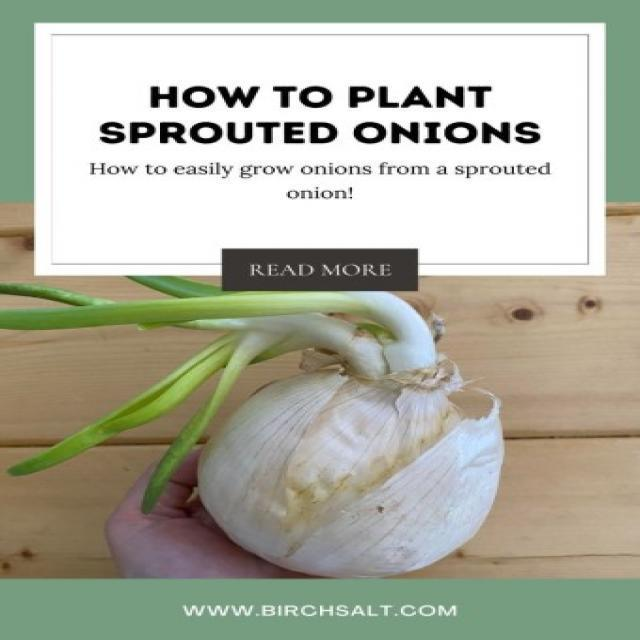onion: (96, 334, 557, 576)
